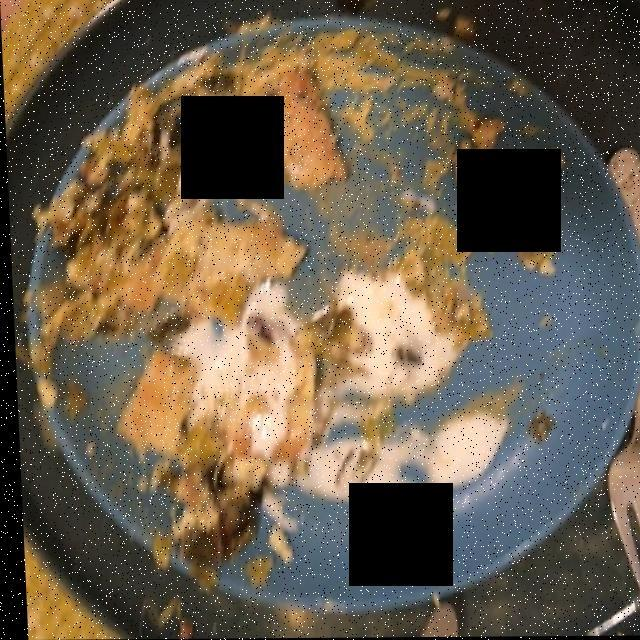leek: (76, 143, 478, 347)
yogurt: (193, 286, 500, 523)
